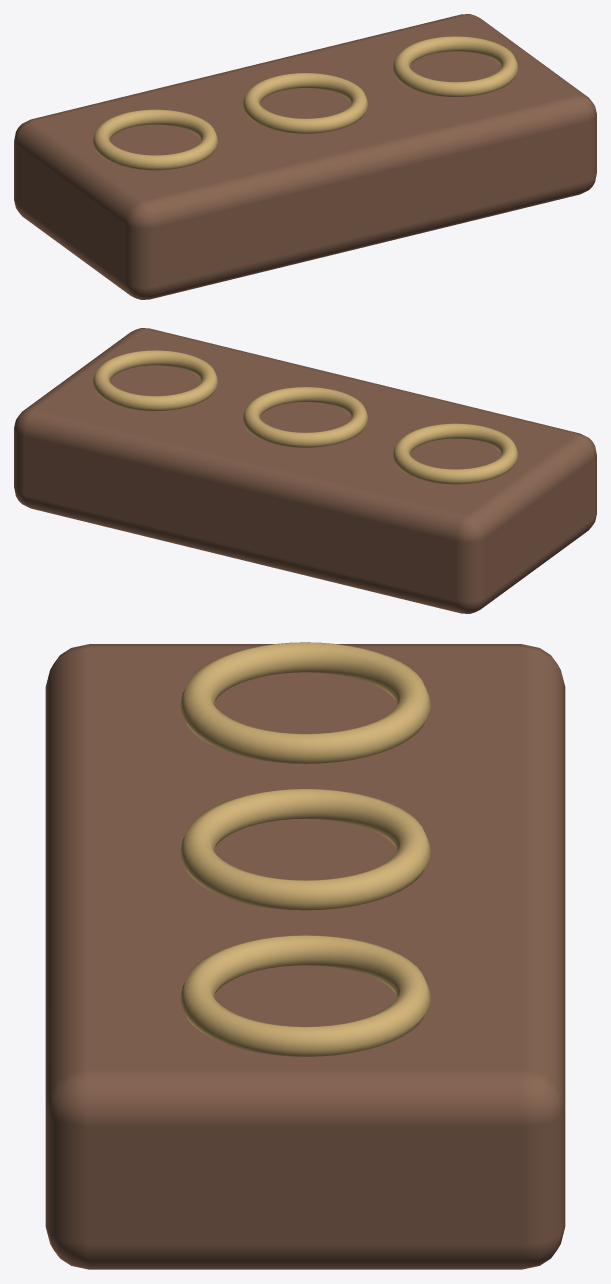
The model's file is griffin-airmail-roost-and-posthouse-stamp-storage-bloc-ddb2dc4b__30521.glb.
3 renders of one model, top to bottom at view 1: azimuth 30°, elevation 25°; view 2: azimuth 150°, elevation 25°; view 3: azimuth 270°, elevation 25°, orthographic. The views are drawn at different scales.
Visible parts, largest first — view 1: stamp-storage-block; view 2: stamp-storage-block; view 3: stamp-storage-block.
Boxes of the visible parts, box(x1,y1,x2,y2) form: stamp-storage-block: box(14, 14, 596, 299); stamp-storage-block: box(14, 328, 596, 613); stamp-storage-block: box(45, 642, 565, 1269).
Bounding box in the file's own units: 0.25 × 0.056 × 0.12.
